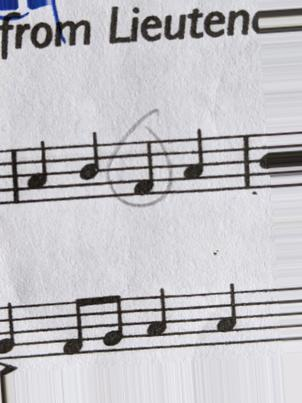A: (22, 137, 51, 206), (211, 281, 240, 349), (141, 285, 170, 352), (180, 126, 207, 196)
B: (75, 127, 104, 209)
F: (130, 137, 159, 199)
G: (1, 294, 16, 360)
